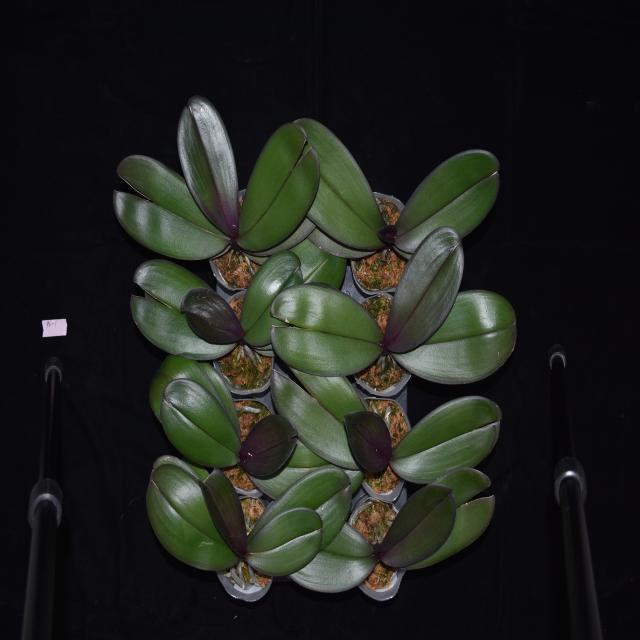leaf: (287, 116, 390, 247), (111, 149, 232, 260), (392, 284, 519, 383), (235, 119, 324, 254), (395, 146, 502, 256), (142, 452, 238, 571), (269, 280, 383, 378), (384, 223, 467, 357), (269, 346, 364, 462), (392, 396, 503, 485), (175, 91, 241, 237), (133, 262, 233, 358), (409, 466, 496, 568), (252, 466, 352, 540), (159, 378, 240, 469), (250, 434, 366, 493), (379, 482, 457, 569), (292, 525, 382, 596), (154, 352, 240, 425), (242, 255, 310, 342), (246, 502, 327, 574), (197, 466, 248, 558), (181, 282, 246, 345), (240, 414, 301, 477), (342, 409, 392, 480), (301, 230, 349, 294), (376, 216, 396, 245)
